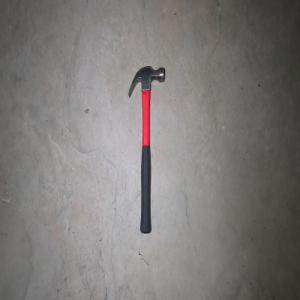Hammer: (127, 64, 165, 234)
